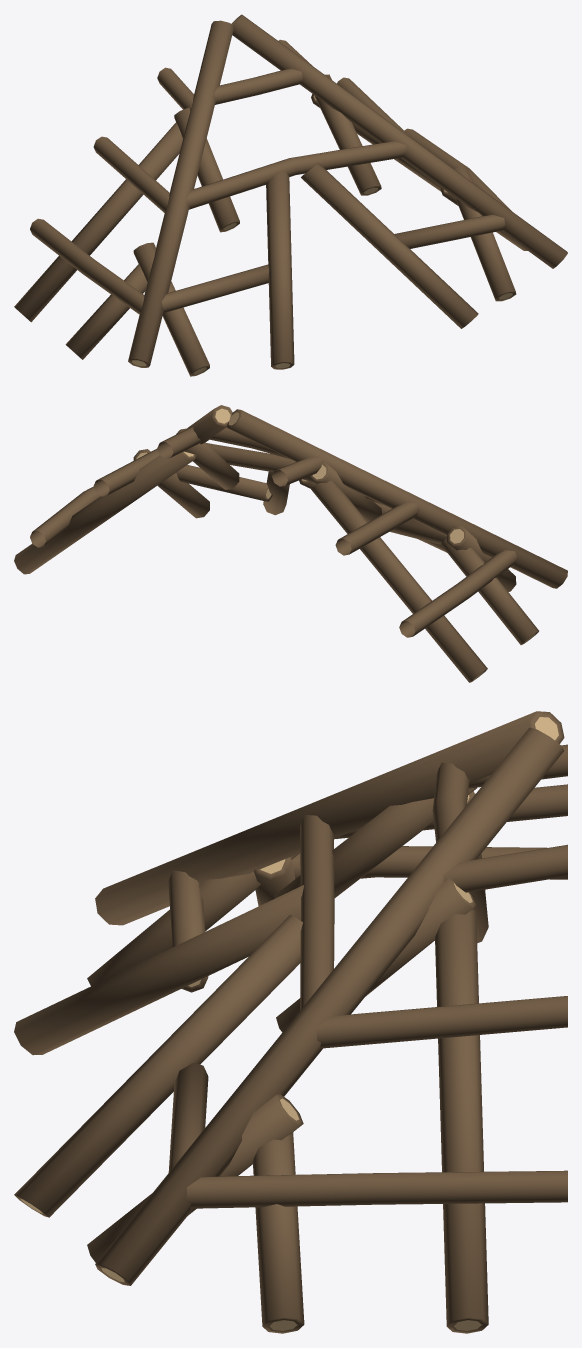
Rendered from rpgpp_ag_roof_support_01_6x3x3_roof_01_end_03.fbx.
3 renders of one model, top to bottom at view 1: azimuth 30°, elevation 25°; view 2: azimuth 150°, elevation 25°; view 3: azimuth 270°, elevation 25°, orthographic. The views are drawn at different scales.
Parts seen in each view (by area): view 1: rpgpp_ag_roof_support_01_6x3x3_roof_01_end_03; view 2: rpgpp_ag_roof_support_01_6x3x3_roof_01_end_03; view 3: rpgpp_ag_roof_support_01_6x3x3_roof_01_end_03.
Boxes of the visible parts, left/top/right/bottom form: rpgpp_ag_roof_support_01_6x3x3_roof_01_end_03: left=14, top=14, right=567, bottom=376; rpgpp_ag_roof_support_01_6x3x3_roof_01_end_03: left=14, top=405, right=567, bottom=682; rpgpp_ag_roof_support_01_6x3x3_roof_01_end_03: left=14, top=711, right=567, bottom=1333.
Size of the model in its own units: 7.38 by 3.52 by 4.21.
